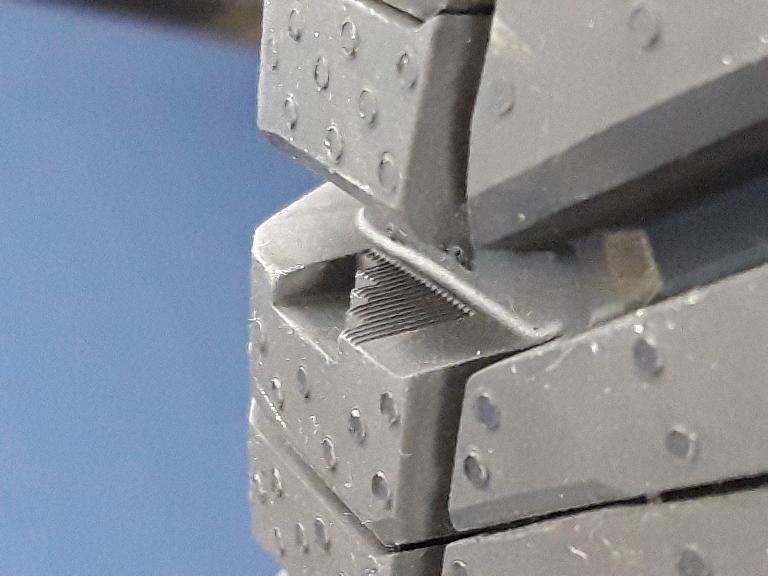temoin:100: (267, 245, 485, 368)
